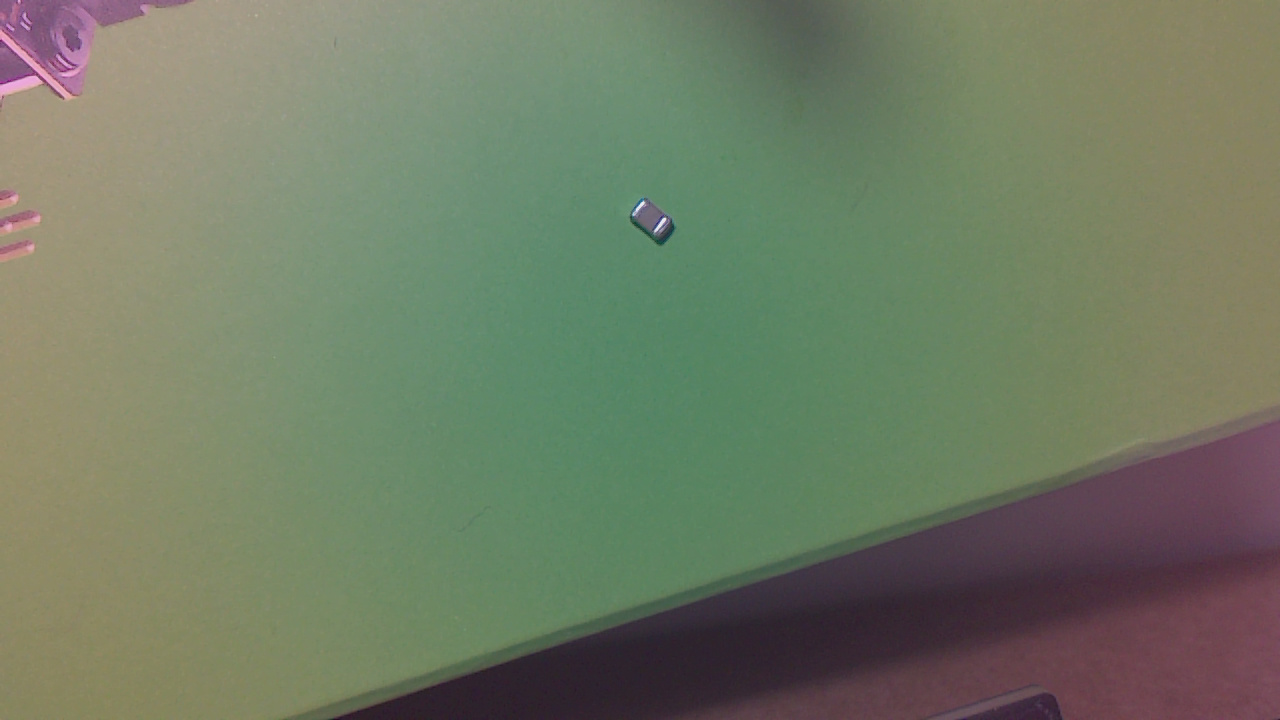Condensator: (634, 202, 683, 248)
